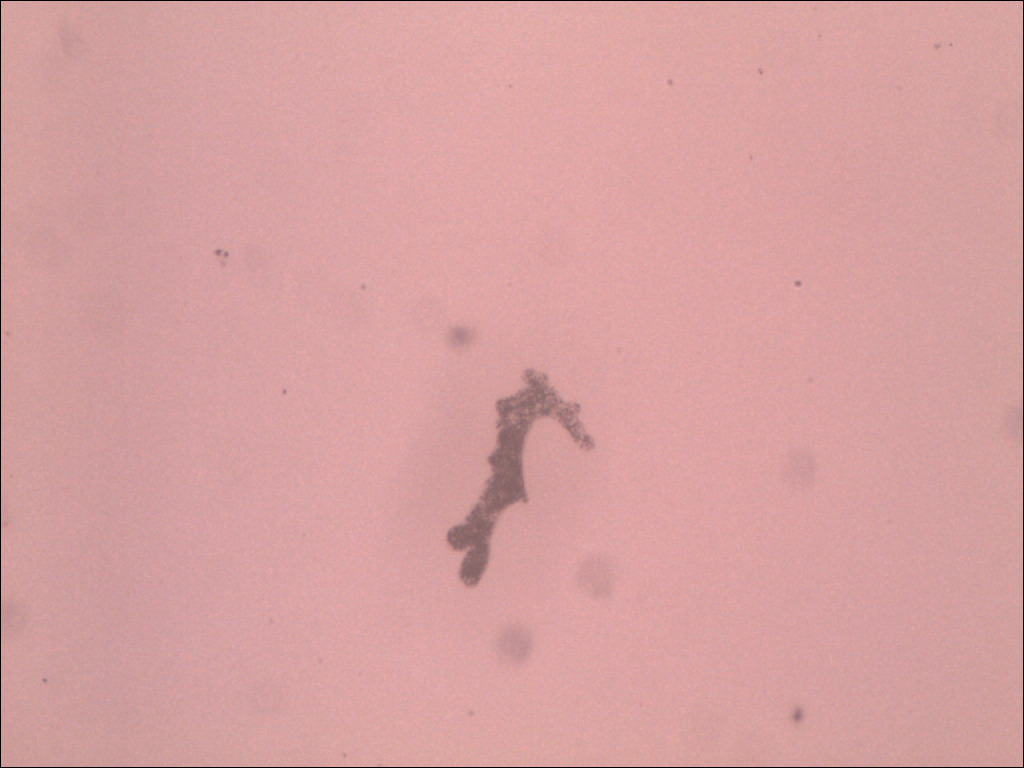amoeba: (439, 362, 605, 596)
